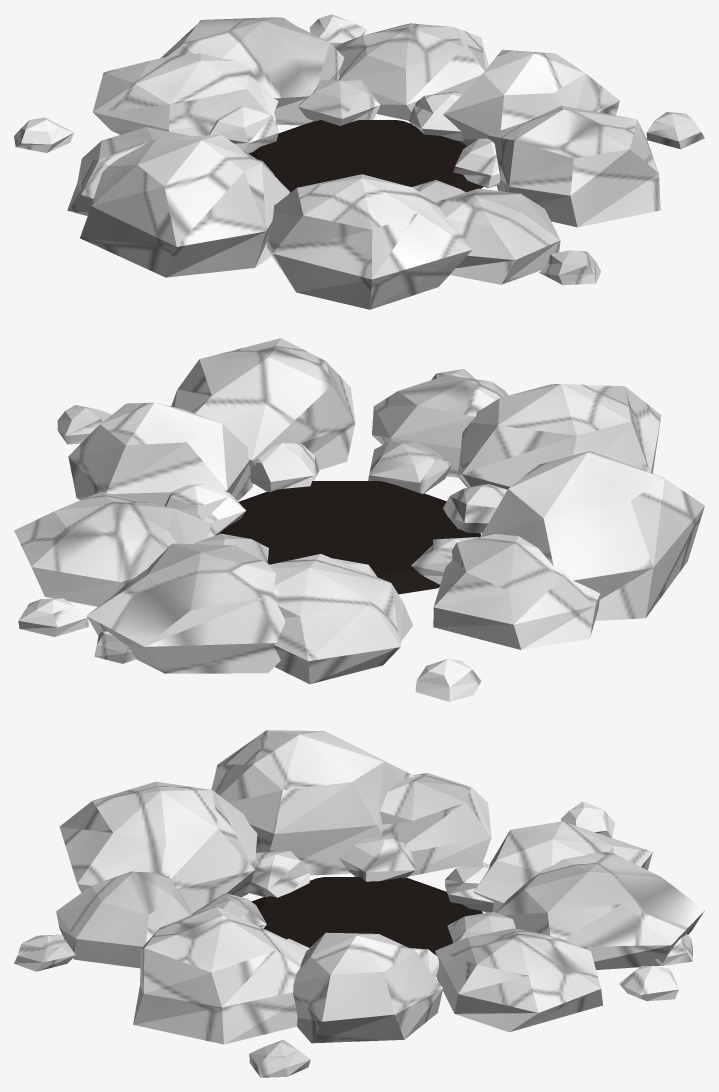
Rendered from geyser.obj.
The picture shows the model from 3 angles, top to bottom: view 1: azimuth 30°, elevation 25°; view 2: azimuth 150°, elevation 25°; view 3: azimuth 270°, elevation 25°; orthographic projection. The views are drawn at different scales.
Visible parts, largest first — view 1: geyser; view 2: geyser; view 3: geyser.
Boxes of the visible parts, <box> form: geyser: <box>14,14,704,309</box>; geyser: <box>14,338,704,701</box>; geyser: <box>14,730,704,1077</box>.
Bounding box in the file's own units: 1.8 × 0.3076 × 1.86.
